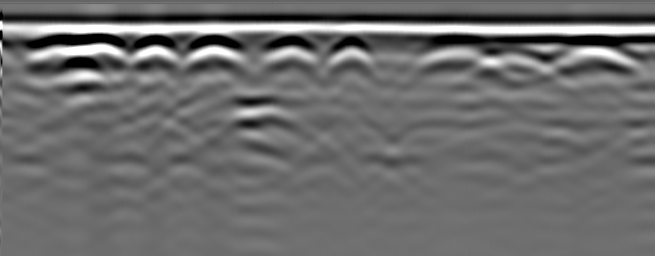steel: (34, 32, 126, 70), (556, 41, 639, 75), (189, 32, 247, 75), (260, 32, 319, 73), (426, 32, 485, 73), (130, 31, 181, 72), (327, 36, 370, 76)
